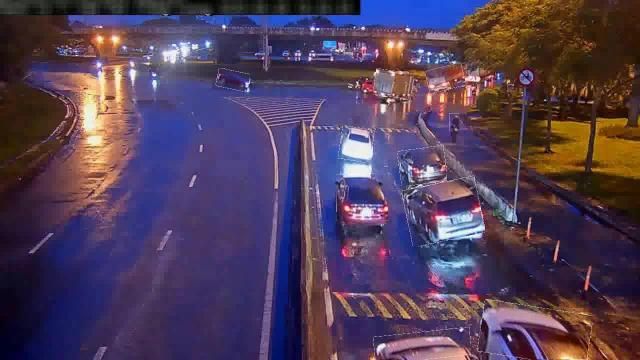Bike: (450, 113, 460, 131)
Car: (478, 303, 592, 359), (404, 179, 484, 243), (373, 329, 471, 359), (336, 175, 389, 222), (398, 147, 446, 185), (339, 127, 373, 162), (216, 70, 250, 90)
Truck: (374, 70, 414, 98), (426, 64, 466, 92)
